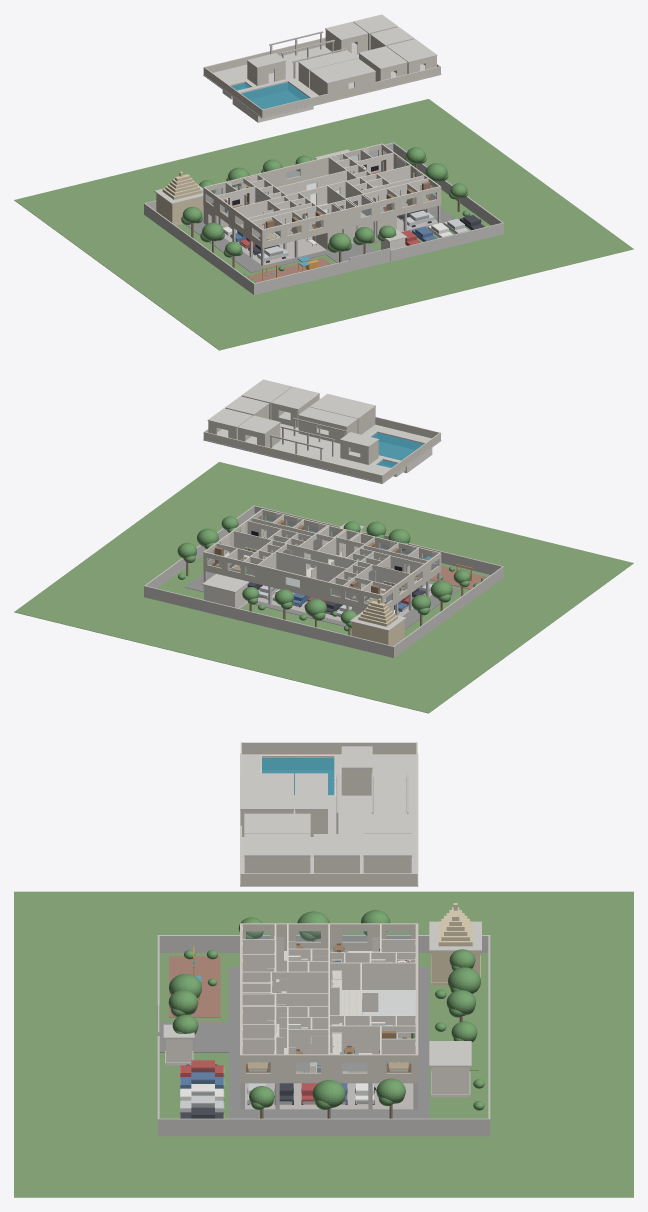
3 views of the same model, one above another, from view 1: azimuth 30°, elevation 25°; view 2: azimuth 150°, elevation 25°; view 3: azimuth 270°, elevation 25° (orthographic). The views are drawn at different scales.
Visible parts, largest first — view 1: Site__grass, Floor__plaster, Terrace__slabc, Floor__render, Terrace__render, Site__concrete, Props__leaf, Site__road, Site__stone, Floor__glazing, Terrace__water, Stilt__paving (+8 smaller); view 2: Site__grass, Floor__plaster, Terrace__slabc, Site__concrete, Terrace__render, Floor__render, Props__leaf, Site__stone, Floor__glazing, Site__road, Terrace__water, Site__slabc (+4 smaller); view 3: Site__grass, Terrace__slabc, Floor__plaster, Site__concrete, Terrace__render, Floor__render, Props__leaf, Site__road, Site__slabc, Floor__doorleaf, Site__stone, Floor__glazing (+10 smaller).
Part boxes in pixels (x1=…): Site__grass: x1=14, y1=99, x2=633, y2=350; Floor__plaster: x1=217, y1=149, x2=428, y2=237; Terrace__slabc: x1=203, y1=14, x2=441, y2=118; Floor__render: x1=203, y1=143, x2=441, y2=247; Terrace__render: x1=203, y1=30, x2=440, y2=117; Site__concrete: x1=144, y1=142, x2=503, y2=294; Props__leaf: x1=181, y1=147, x2=469, y2=283; Site__road: x1=186, y1=206, x2=455, y2=272; Site__stone: x1=156, y1=171, x2=208, y2=225; Floor__glazing: x1=206, y1=150, x2=436, y2=240; Terrace__water: x1=231, y1=82, x2=308, y2=109; Stilt__paving: x1=224, y1=217, x2=437, y2=265; Site__grass: x1=14, y1=462, x2=633, y2=713; Floor__plaster: x1=216, y1=515, x2=428, y2=602; Terrace__slabc: x1=203, y1=379, x2=441, y2=483; Site__concrete: x1=144, y1=505, x2=503, y2=657; Terrace__render: x1=203, y1=395, x2=440, y2=482; Floor__render: x1=203, y1=509, x2=441, y2=609; Props__leaf: x1=177, y1=516, x2=485, y2=631; Site__stone: x1=351, y1=598, x2=404, y2=646; Floor__glazing: x1=208, y1=515, x2=438, y2=603; Site__road: x1=185, y1=548, x2=459, y2=629; Terrace__water: x1=371, y1=432, x2=423, y2=467; Site__slabc: x1=202, y1=522, x2=406, y2=631; Site__grass: x1=14, y1=891, x2=633, y2=1197; Terrace__slabc: x1=240, y1=746, x2=418, y2=886; Floor__plaster: x1=241, y1=923, x2=416, y2=1065; Site__concrete: x1=157, y1=935, x2=490, y2=1136; Terrace__render: x1=240, y1=742, x2=417, y2=885; Floor__render: x1=240, y1=923, x2=418, y2=1081; Props__leaf: x1=168, y1=910, x2=484, y2=1110; Site__road: x1=159, y1=967, x2=429, y2=1118; Site__slabc: x1=163, y1=921, x2=481, y2=1066; Floor__doorleaf: x1=267, y1=937, x2=397, y2=1054; Site__stone: x1=431, y1=903, x2=480, y2=985; Floor__glazing: x1=246, y1=931, x2=410, y2=1072.
Bounding box in the file's own units: 70 × 27.45 × 60.
Materials: 50 (8 with a texture image).
